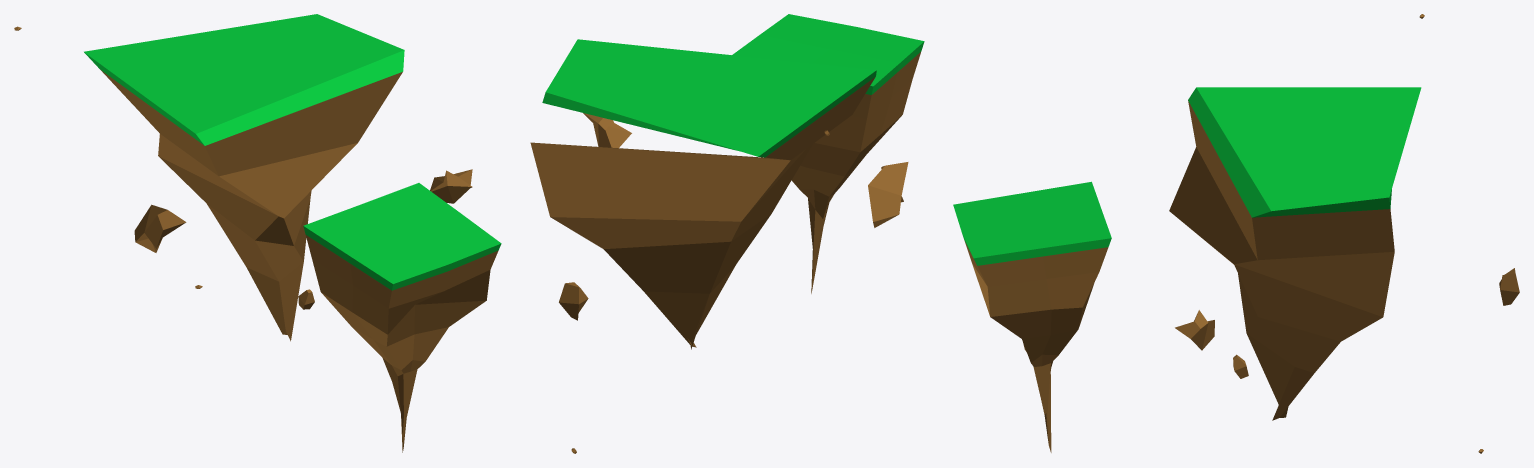
The model's file is Floating Island.glb.
3 renders of one model, left to right at view 1: azimuth 30°, elevation 25°; view 2: azimuth 150°, elevation 25°; view 3: azimuth 270°, elevation 25°, orthographic. The views are drawn at different scales.
Visible parts, largest first — view 1: Cube; view 2: Cube; view 3: Cube.
Boxes of the visible parts, x1,y1,x2,y2 form: Cube: (14,14,501,452); Cube: (530,14,924,453); Cube: (953,14,1519,453).
Bounding box in the file's own units: 2.68 × 2.51 × 3.78.
